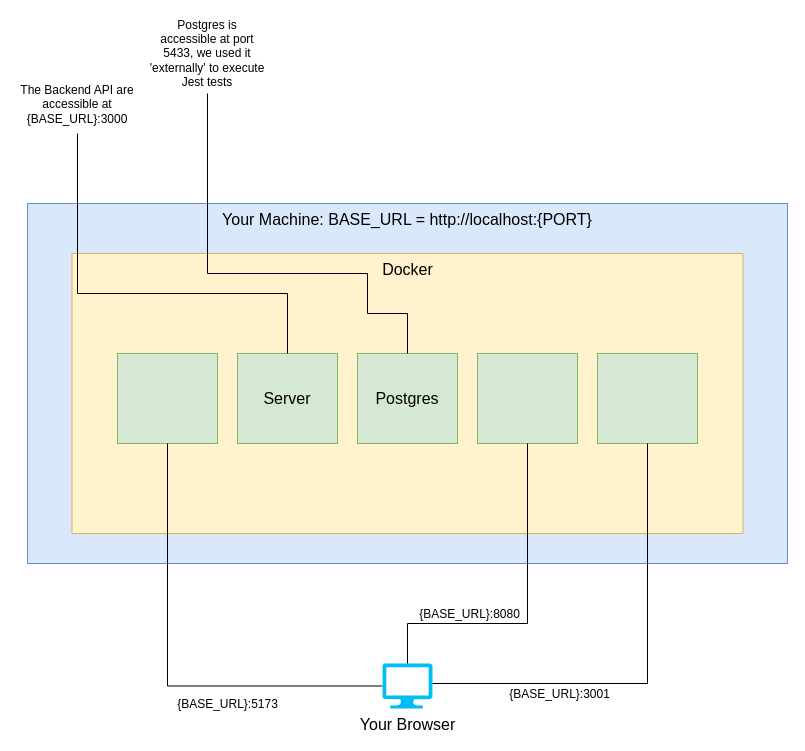
The diagram is 805 pixels wide and 751 high, and some of its shapes have lost their labels. The centre of each missing label's shape, as x and y in pixels:
Adminer: the point at 527,398
Charging Point Simulator: the point at 647,398
Client: the point at 167,398
